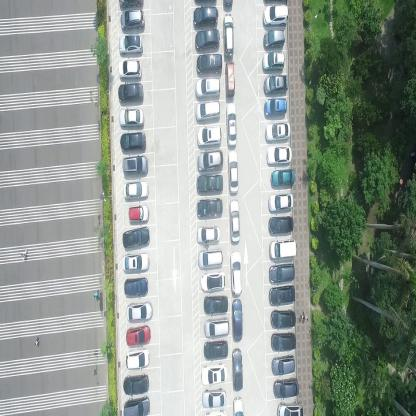car: (122, 226, 150, 252), (269, 237, 297, 260), (201, 362, 227, 386), (121, 250, 148, 273), (122, 155, 148, 178), (194, 100, 220, 123), (198, 149, 224, 172), (262, 4, 288, 27), (273, 376, 299, 399), (123, 394, 150, 416), (231, 250, 243, 298), (120, 7, 145, 30), (198, 248, 223, 271), (200, 270, 225, 293), (193, 6, 218, 29), (195, 78, 221, 100), (126, 302, 152, 324), (204, 317, 230, 339), (269, 262, 296, 283), (126, 348, 150, 371), (270, 284, 295, 306), (198, 125, 223, 147), (204, 339, 229, 361), (126, 324, 151, 346), (263, 74, 288, 96), (122, 180, 148, 201), (270, 308, 296, 329), (198, 198, 224, 219), (123, 373, 149, 394), (119, 132, 146, 152), (117, 82, 144, 102), (196, 28, 220, 50), (123, 276, 147, 298), (204, 294, 228, 316), (228, 150, 240, 194), (272, 354, 296, 376), (119, 108, 144, 129), (269, 191, 294, 212), (118, 34, 143, 55), (201, 387, 226, 408), (267, 145, 293, 165), (197, 174, 224, 193), (197, 224, 221, 245), (118, 58, 143, 78), (269, 214, 294, 234), (232, 298, 243, 343), (230, 199, 241, 244), (197, 54, 223, 73), (271, 330, 297, 349), (266, 122, 292, 141), (271, 168, 296, 187), (127, 202, 149, 223), (226, 100, 236, 146), (223, 12, 233, 58), (262, 51, 285, 71), (233, 346, 243, 391), (264, 29, 286, 48), (264, 98, 286, 117), (276, 400, 302, 415), (226, 60, 235, 98), (233, 395, 244, 415), (118, 0, 145, 7)
